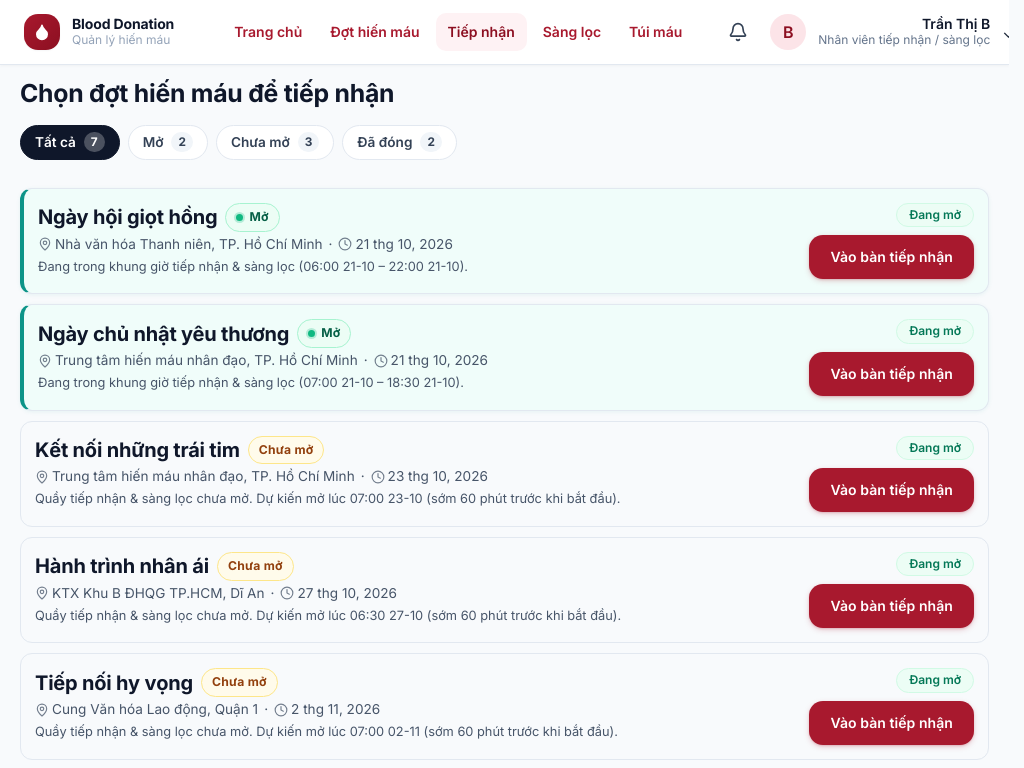
Test: clinic check-in page › searches and checks in a donor via campaign selection
The width and height of the screenshot is (1024, 768).
Expected: the heading "Chọn đợt hiến máu để tiếp nhận" is shown, top-left (20, 79), bottom-right (394, 109)
Step 1. Click the 1st link "Vào bàn tiếp nhận" → [892, 257], box top-left (809, 235), bottom-right (974, 279)
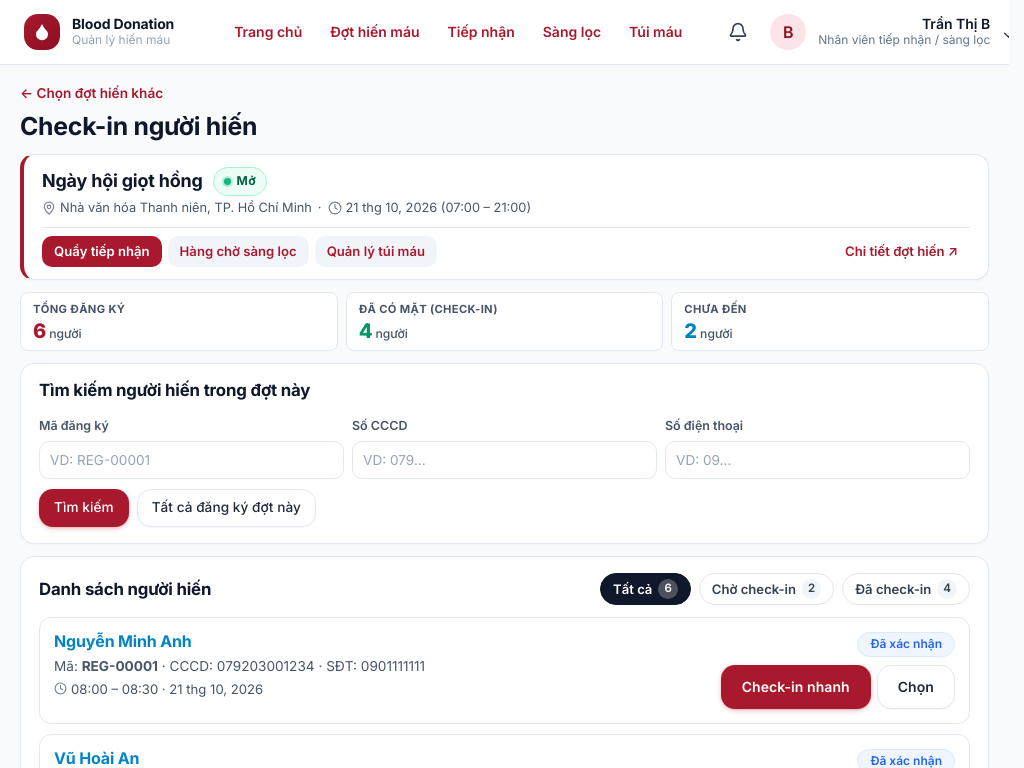
Now the heading "Check-in người hiến" is shown, box top-left (20, 112), bottom-right (257, 142)
Step 2. Type "REG-00001" into the field labelled "Mã đăng ký" → [192, 460], box top-left (39, 441), bottom-right (344, 479)
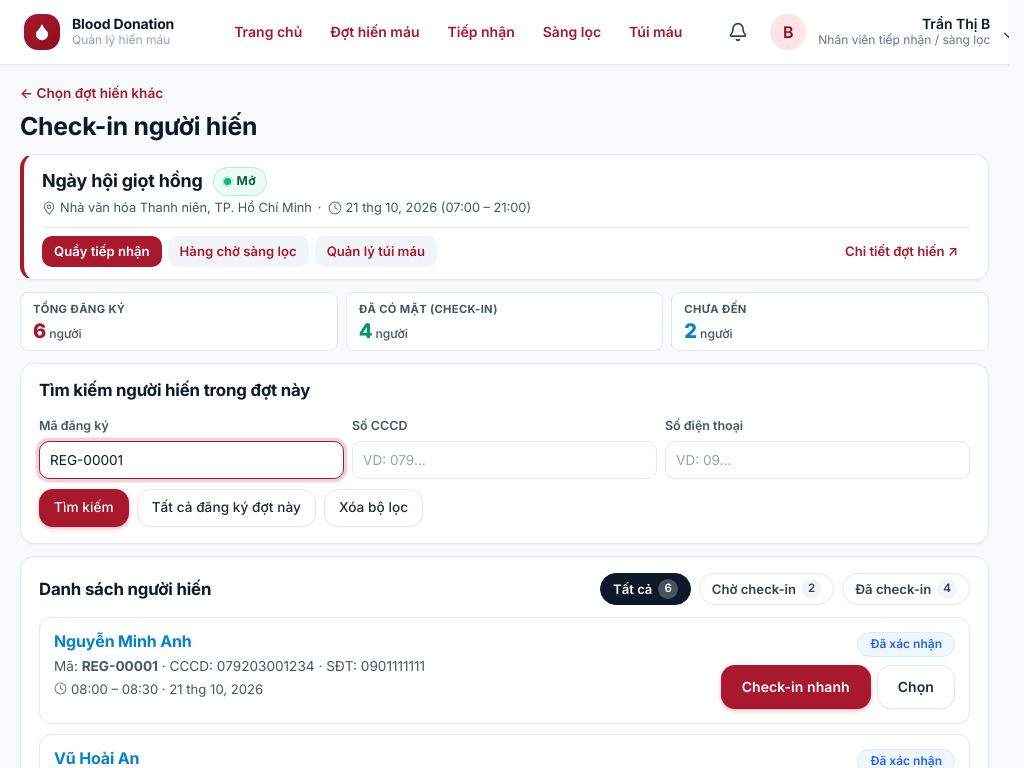
Step 3. Click the button "Tìm kiếm" → [84, 508], box top-left (39, 489), bottom-right (129, 527)
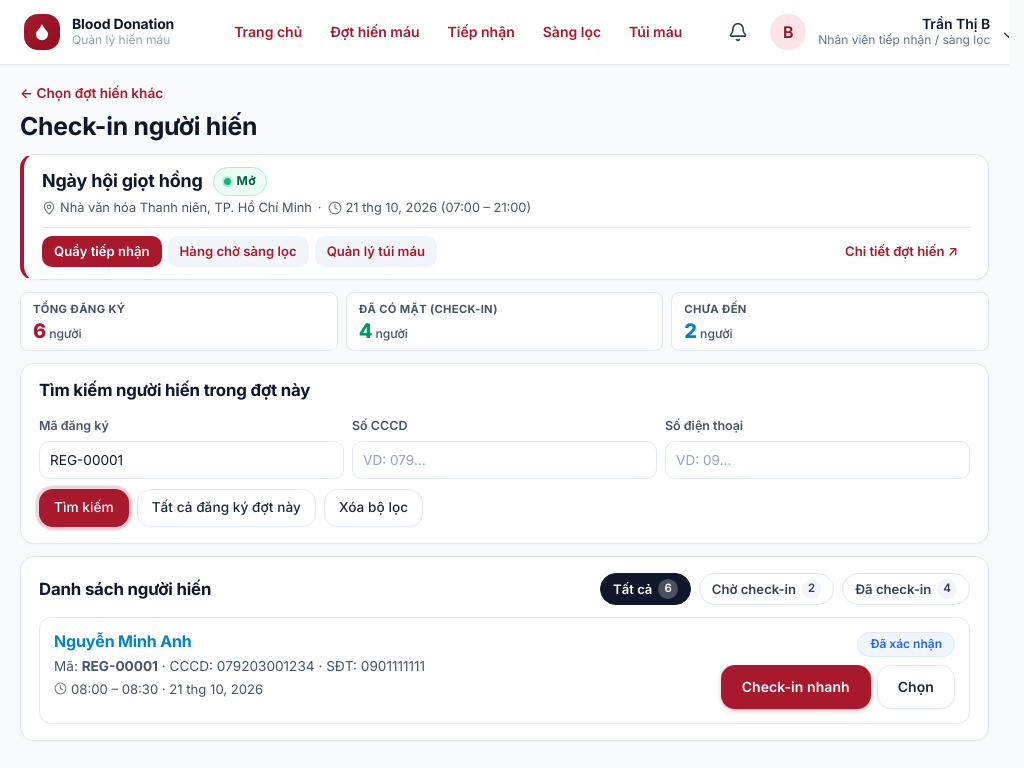
Now the heading "Nguyễn Minh Anh" is shown, box top-left (54, 632), bottom-right (192, 652)
Step 4. Click the button "Chọn" → [916, 687], box top-left (877, 665), bottom-right (955, 709)
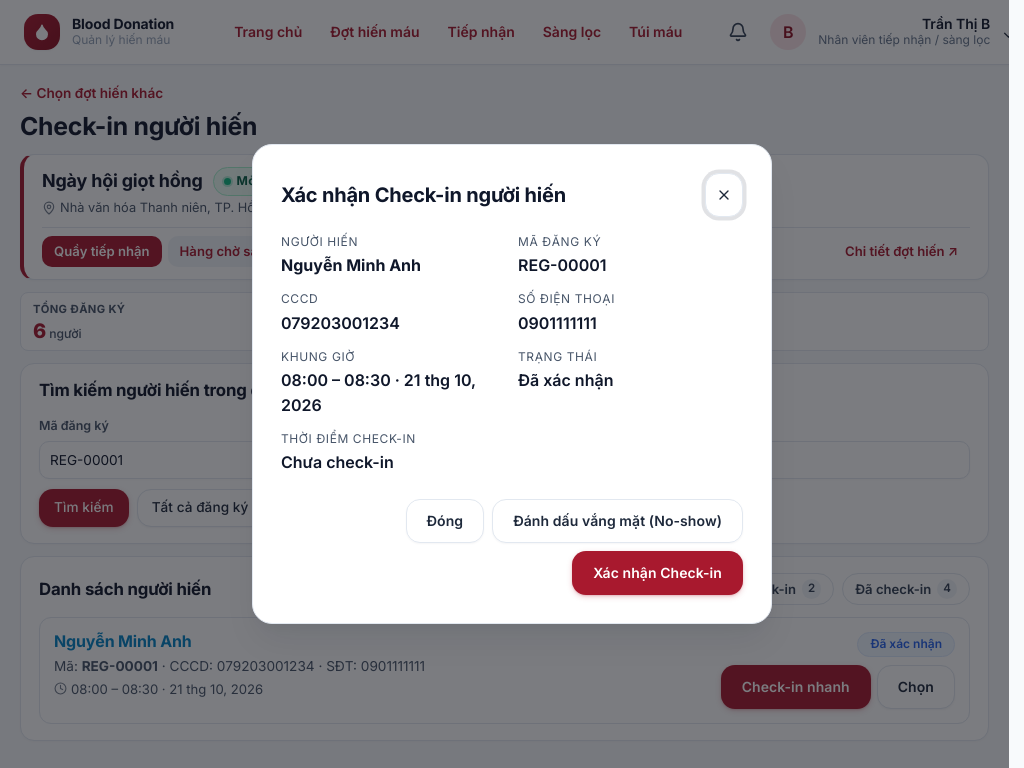
Step 5. Click the button "Xác nhận Check-in" → [658, 573], box top-left (572, 551), bottom-right (743, 595)
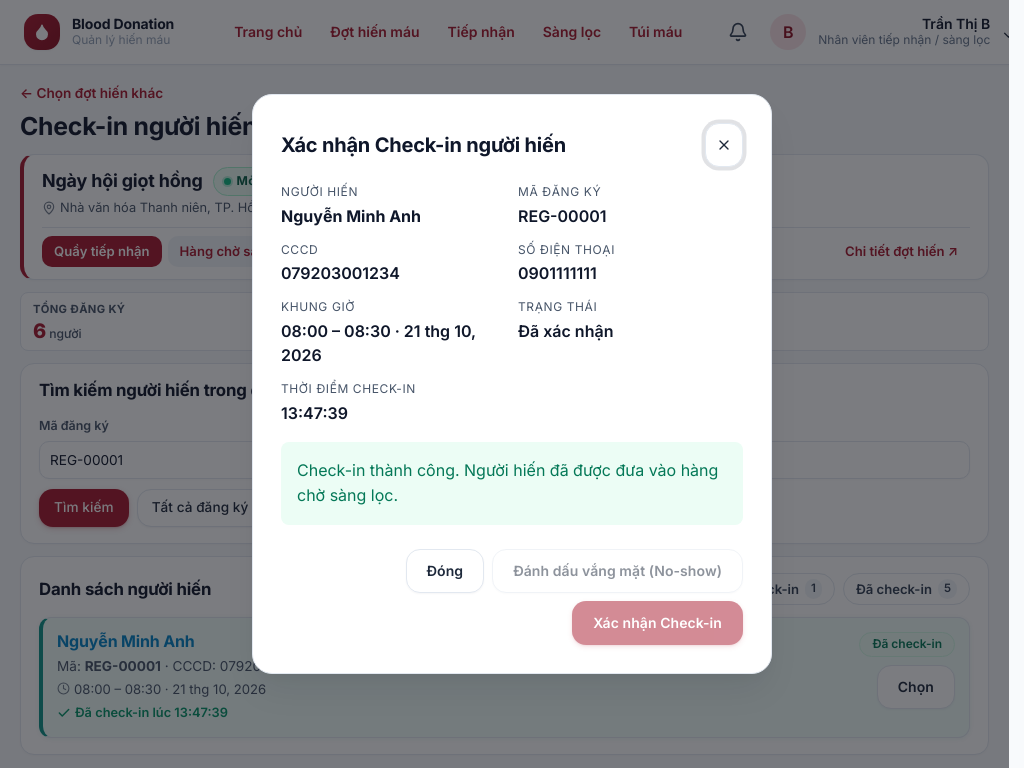
Now the text "Check-in thành công. Người hiến đã được đưa vào hàng chờ sàng lọc." is shown, box top-left (281, 442), bottom-right (743, 525)
